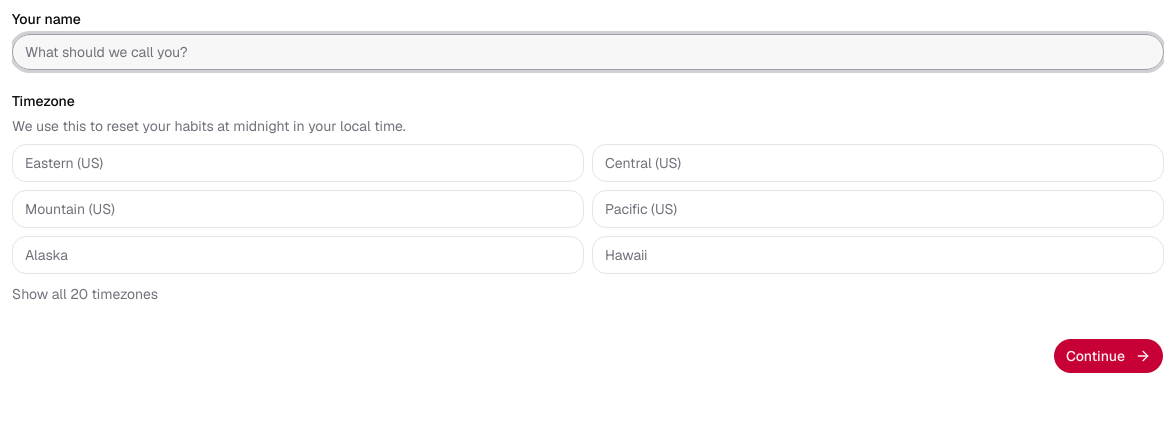
Scenario: StepName › shows error when submitting empty name
Step 1. Click the button "Continue" → click(1108, 356), box 1053,338 -> 1164,374
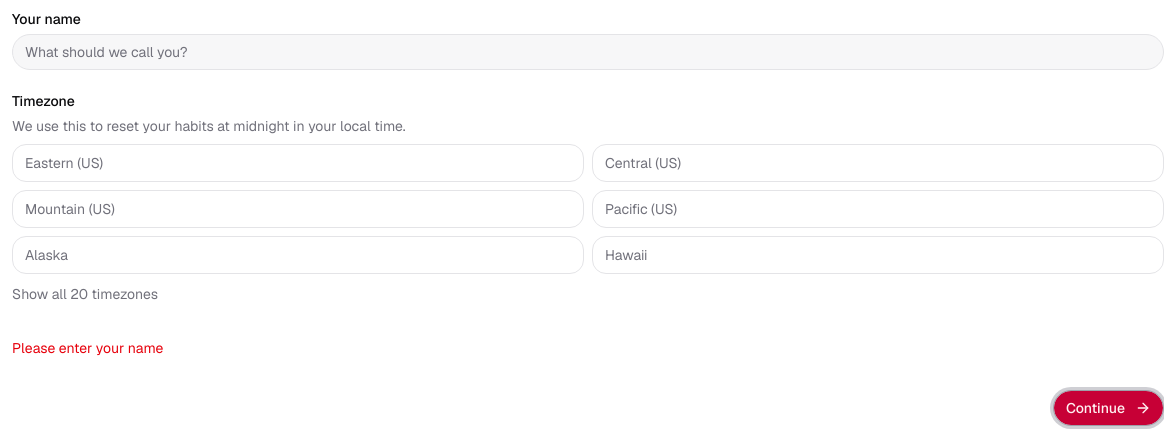
Check: the text "Please enter your name" is shown, box 12,339 -> 163,357
